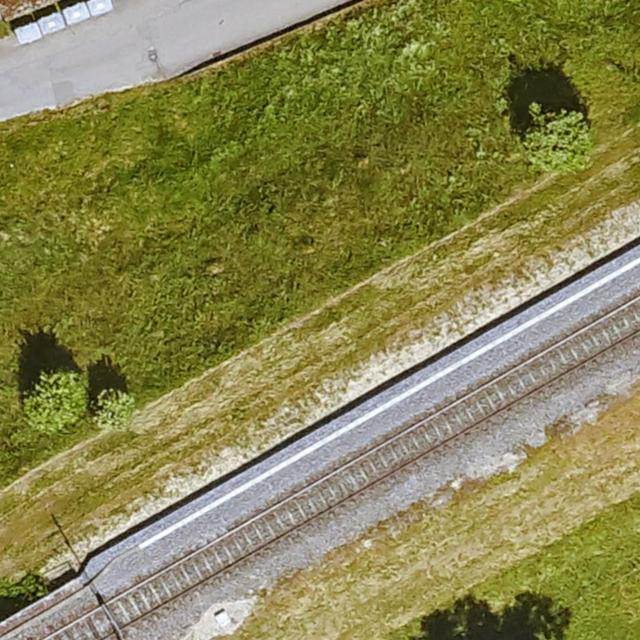tree: (523, 112, 592, 172), (23, 376, 85, 426), (95, 391, 133, 432)
